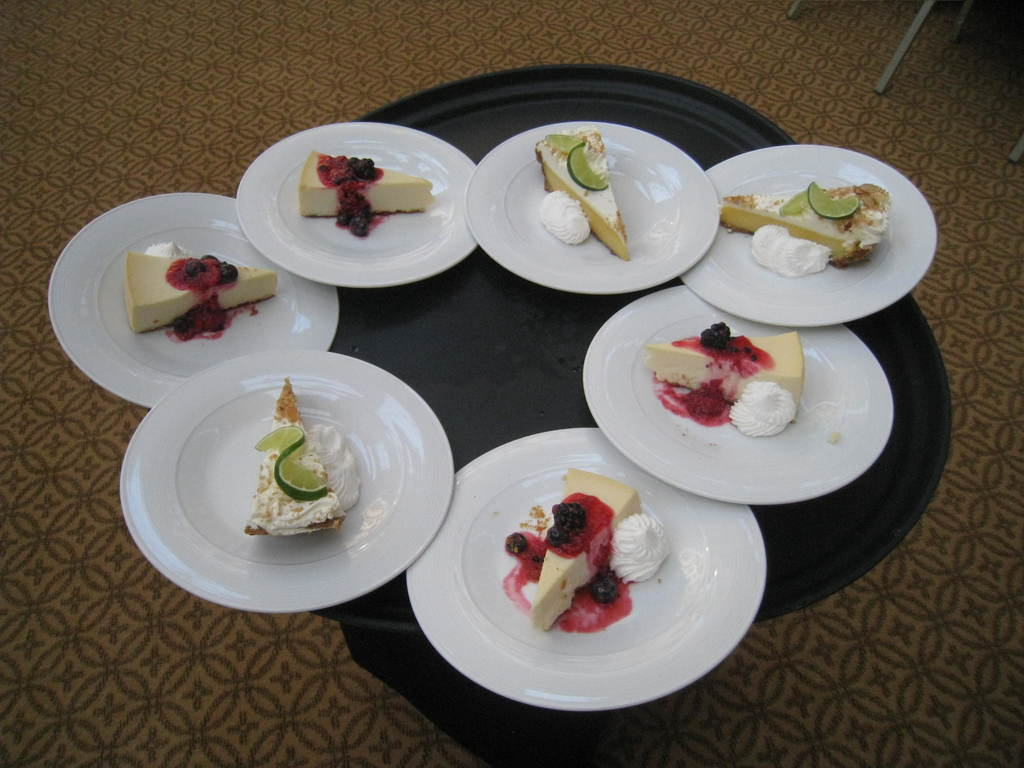plate: (140, 342, 445, 609)
